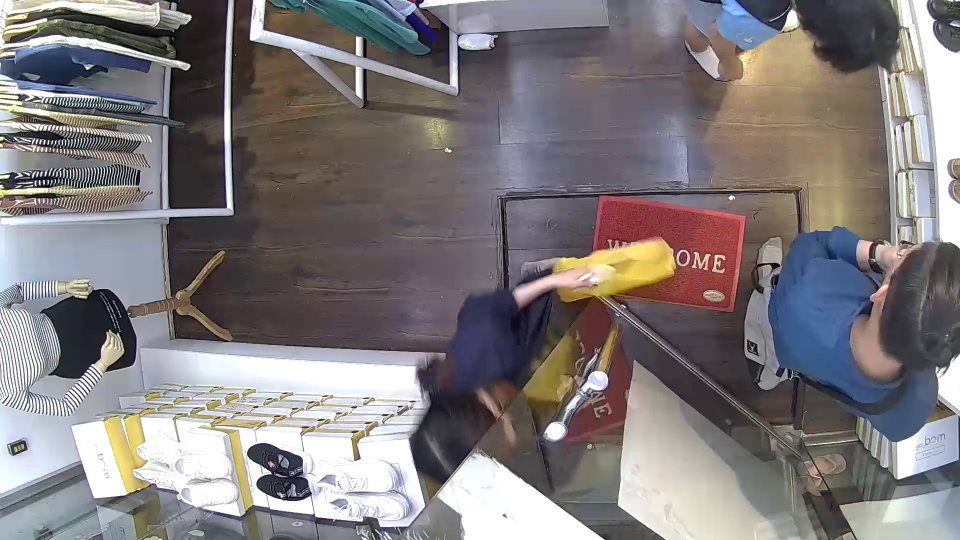topviewhead: (404, 395, 523, 486), (885, 241, 960, 374)
